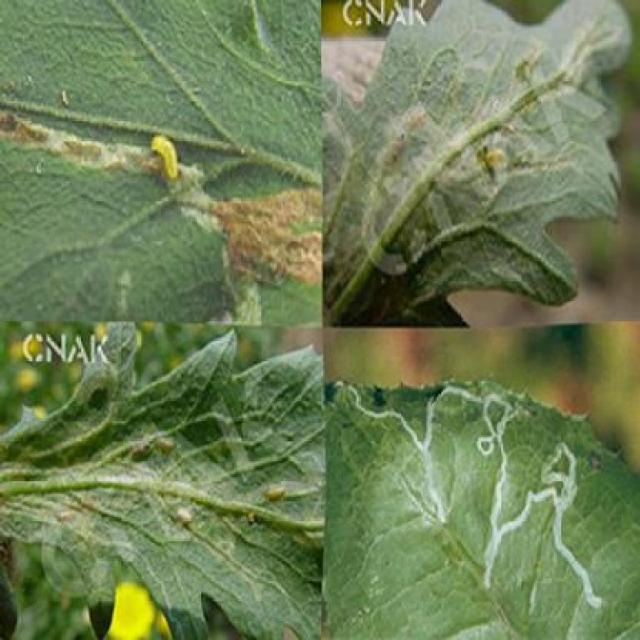whorl-maggot: (147, 123, 182, 188)
